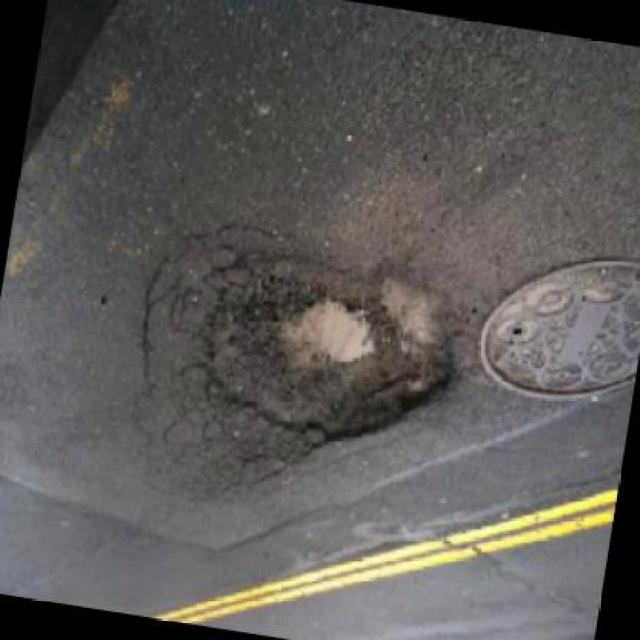pothole1: (184, 244, 465, 465)
